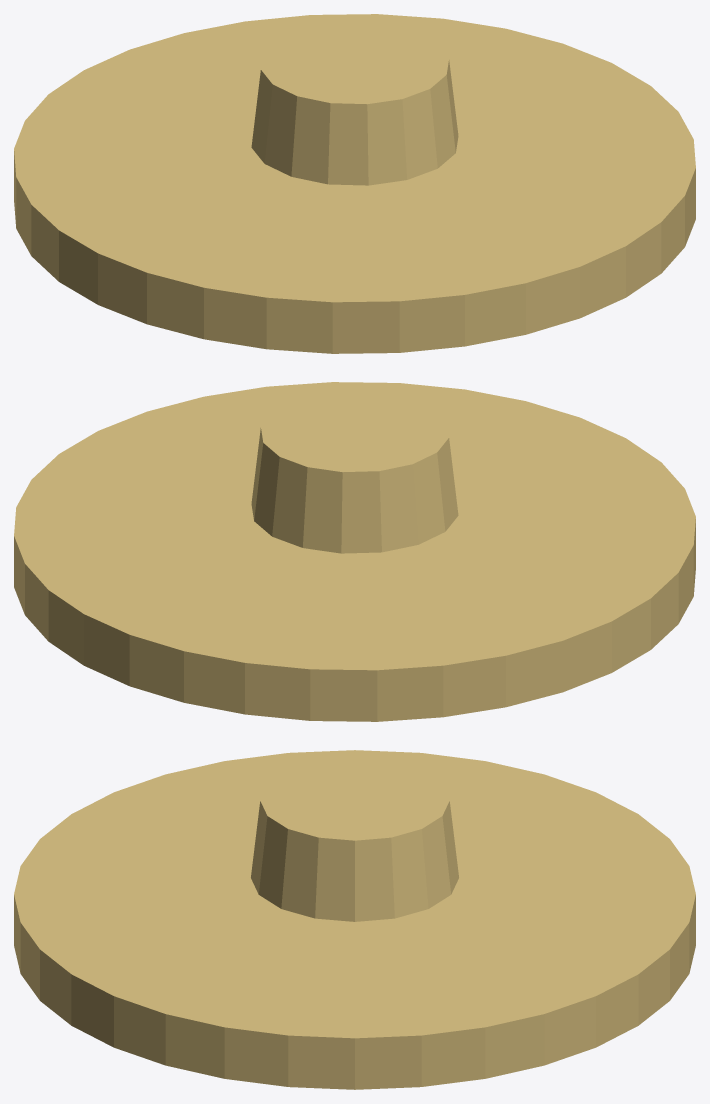
Rendered from bagua_lock.glb.
3 views of the same model, one above another, from view 1: azimuth 30°, elevation 25°; view 2: azimuth 150°, elevation 25°; view 3: azimuth 270°, elevation 25° (orthographic).
Visible parts, largest first — view 1: SM_BaguaLock; view 2: SM_BaguaLock; view 3: SM_BaguaLock.
Boxes of the visible parts, bbox=[...] form: SM_BaguaLock: bbox=[14, 14, 695, 353]; SM_BaguaLock: bbox=[14, 382, 695, 721]; SM_BaguaLock: bbox=[14, 750, 695, 1089].
Bounding box in the file's own units: 0.36 × 0.0845 × 0.36.
